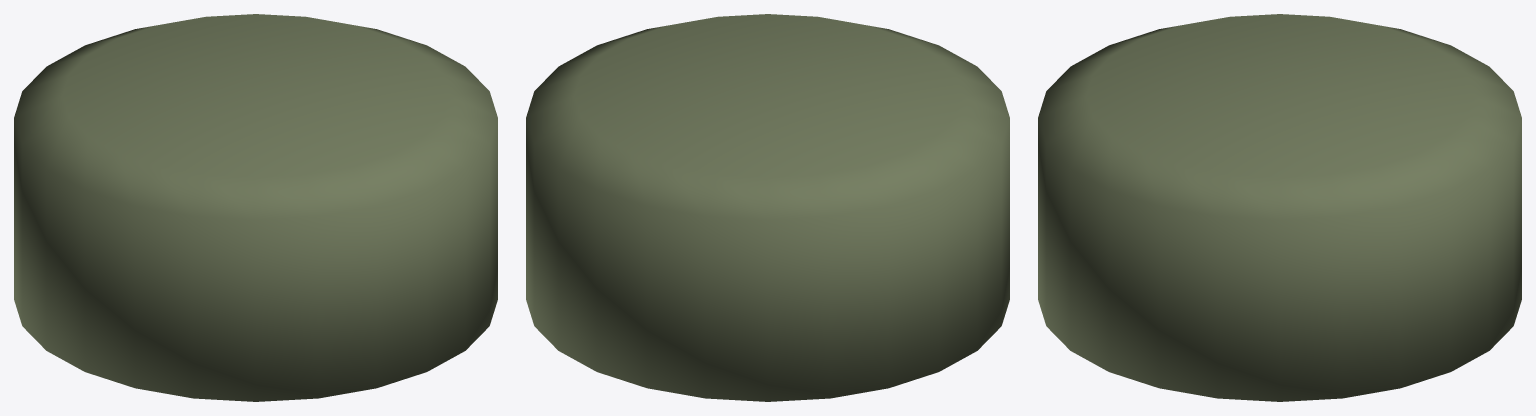
File: explosive-canister.glb
The picture shows the model from 3 angles, left to right: view 1: azimuth 30°, elevation 25°; view 2: azimuth 150°, elevation 25°; view 3: azimuth 270°, elevation 25°; orthographic projection.
Parts seen in each view (by area): view 1: canister; view 2: canister; view 3: canister.
Boxes of the visible parts, bbox=[...] form: canister: bbox=[14, 14, 497, 401]; canister: bbox=[526, 14, 1009, 401]; canister: bbox=[1038, 14, 1521, 401].
Size of the model in its own units: 2 by 1 by 2.
